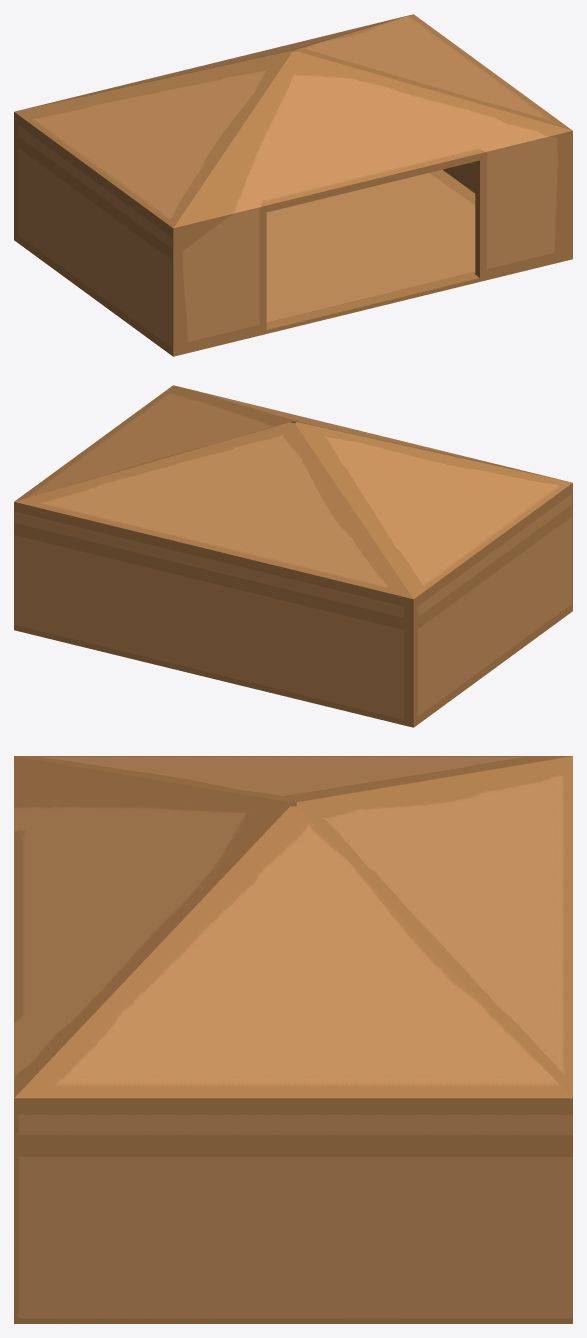
File: BarnTextExport.fbx
3 renders of one model, top to bottom at view 1: azimuth 30°, elevation 25°; view 2: azimuth 150°, elevation 25°; view 3: azimuth 270°, elevation 25°, orthographic. The views are drawn at different scales.
Parts seen in each view (by area): view 1: pCube1; view 2: pCube1; view 3: pCube1.
Part boxes in pixels (x1=…): pCube1: x1=14, y1=14, x2=572, y2=356; pCube1: x1=14, y1=385, x2=572, y2=727; pCube1: x1=14, y1=756, x2=572, y2=1323.
Size of the model in its own units: 72.57 by 34.44 by 50.08.
